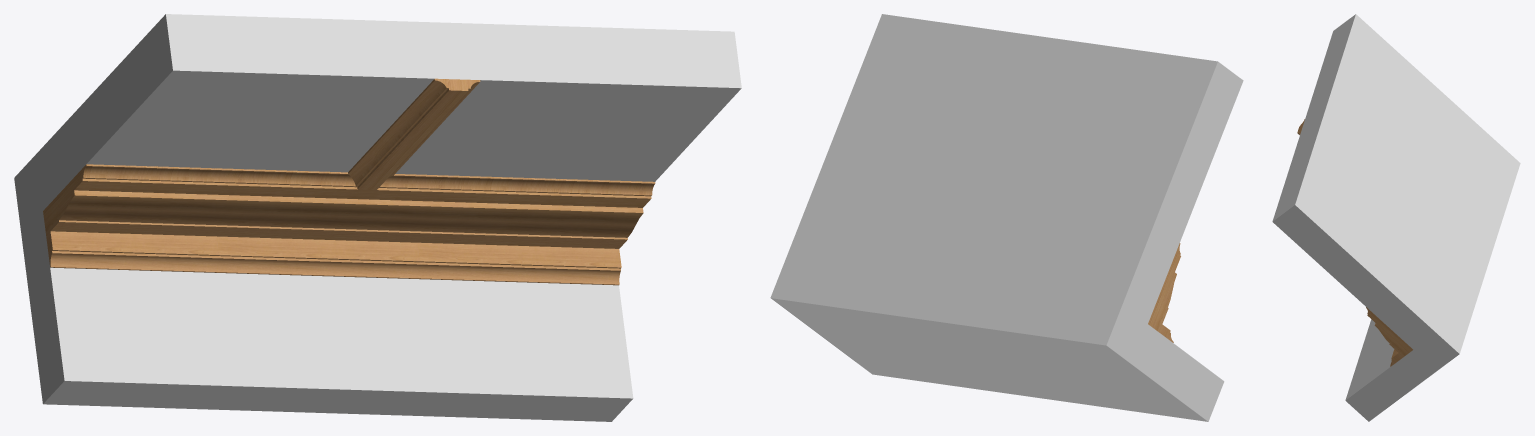
Rendered from 3D Сборка 1.gltf.
3 renders of one model, left to right at view 1: azimuth 30°, elevation 25°; view 2: azimuth 150°, elevation 25°; view 3: azimuth 270°, elevation 25°, orthographic. The views are drawn at different scales.
Bounding box in the file's own units: 1.07 × 0.9512 × 0.7463.
5 materials, 4 textured.
